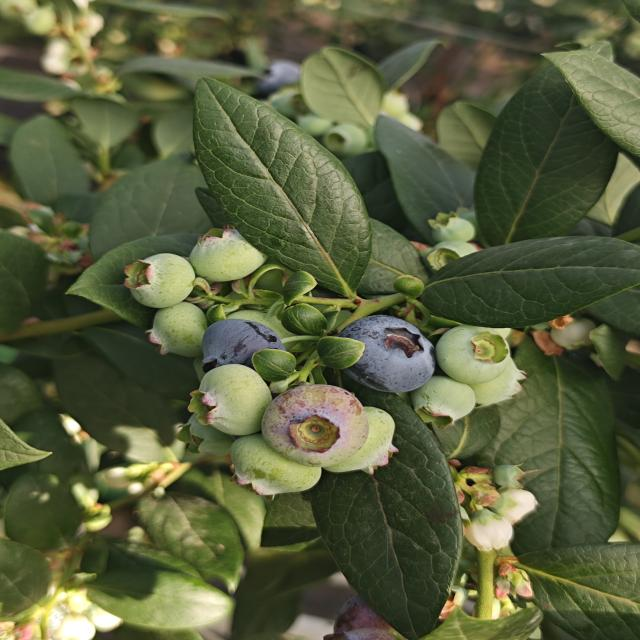ripe: (338, 311, 442, 397), (193, 315, 288, 372), (241, 58, 316, 102)
